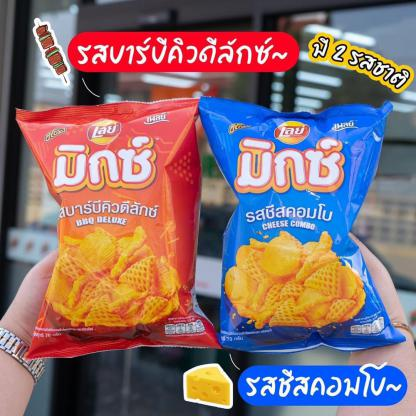potatochip: (197, 95, 406, 352), (18, 98, 223, 359)
